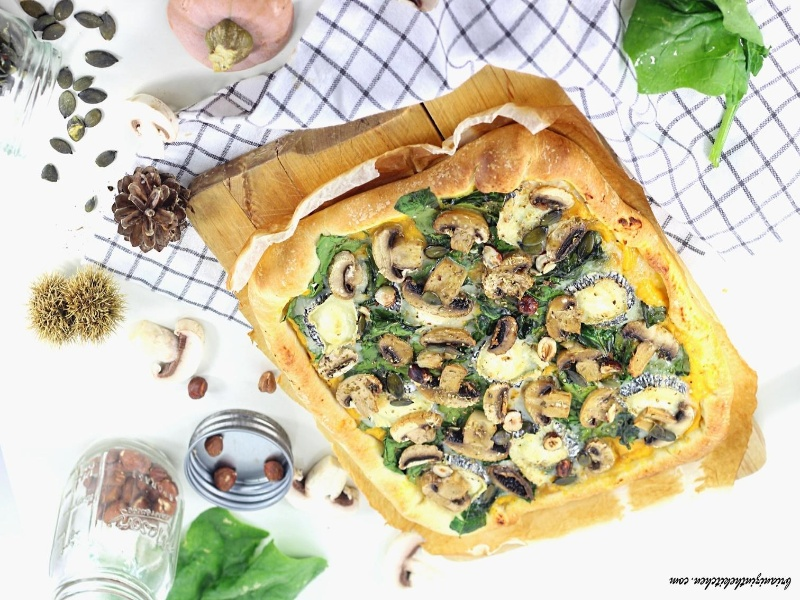champignon: (398, 253, 479, 320), (620, 315, 683, 380), (631, 397, 702, 451), (368, 223, 426, 284), (411, 366, 483, 414), (431, 205, 495, 255), (538, 288, 590, 347), (479, 254, 540, 304), (519, 381, 577, 425), (338, 365, 384, 420), (388, 406, 447, 447), (576, 384, 625, 432), (415, 325, 483, 356), (323, 247, 362, 301), (526, 182, 579, 217), (394, 441, 448, 475), (373, 328, 416, 370), (577, 437, 621, 477), (481, 380, 514, 430), (490, 313, 523, 356)
